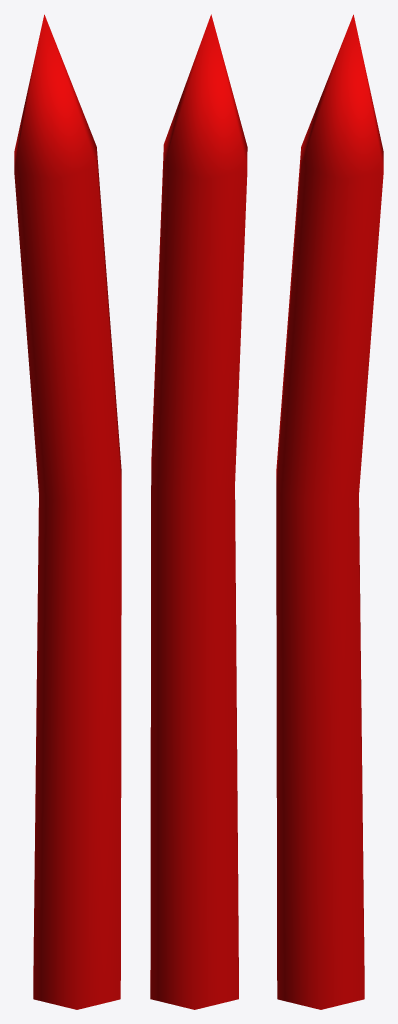
Rendered from Stake_02_Lod0.fbx.
3 views of the same model, side by side, from view 1: azimuth 90°, elevation 25°; view 2: azimuth 210°, elevation 25°; view 3: azimuth 270°, elevation 25° (orthographic).
Parts seen in each view (by area): view 1: Stake_02_Lod0; view 2: Stake_02_Lod0; view 3: Stake_02_Lod0.
Part boxes in pixels (box(x1,y1,x2,y2)): Stake_02_Lod0: box(14, 14, 121, 1009); Stake_02_Lod0: box(150, 14, 247, 1009); Stake_02_Lod0: box(276, 14, 383, 1009).
Bounding box in the file's own units: 10.35 × 110 × 11.01.
